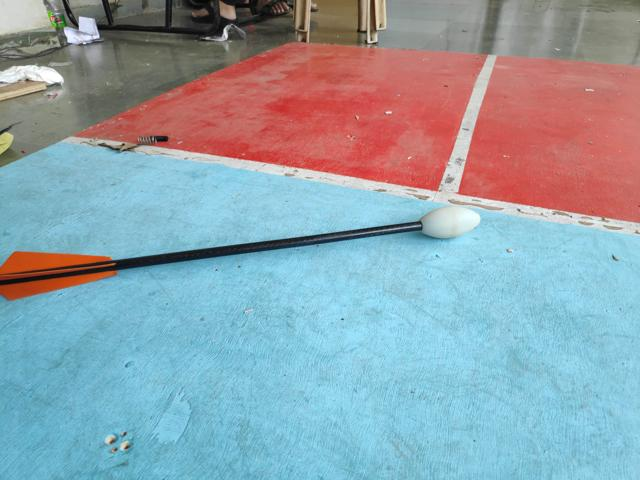Head: (419, 204, 483, 241)
Tail: (2, 249, 125, 305)
